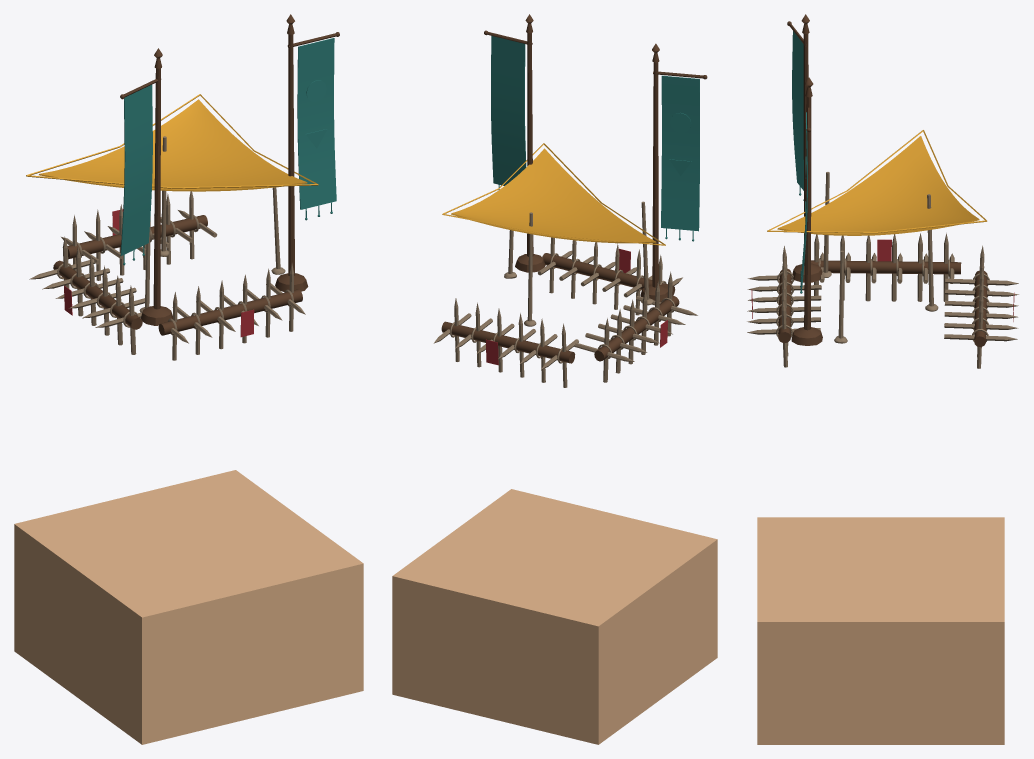
Rendered from nomad_guard_post.fbx.
3 views of the same model, side by side, from view 1: azimuth 30°, elevation 25°; view 2: azimuth 150°, elevation 25°; view 3: azimuth 270°, elevation 25° (orthographic). The views are drawn at different scales.
Visible parts, largest first — view 1: NomadGuardPost; view 2: NomadGuardPost; view 3: NomadGuardPost.
Boxes of the visible parts, bbox=[...] form: NomadGuardPost: bbox=[14, 14, 363, 744]; NomadGuardPost: bbox=[392, 14, 717, 744]; NomadGuardPost: bbox=[747, 14, 1018, 744].
Bounding box in the file's own units: 918 × 2306 × 885.
